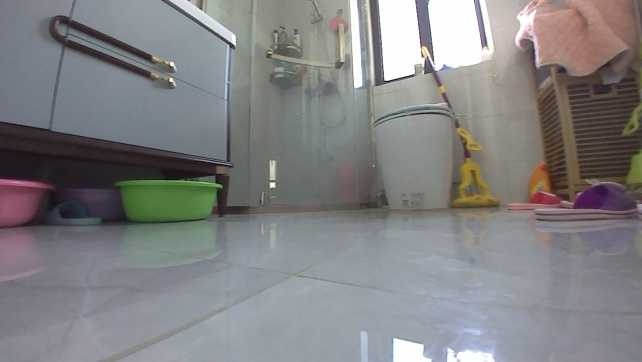slipper: (533, 180, 641, 223), (506, 186, 559, 210)
toilet: (370, 103, 460, 210)
washstand: (0, 0, 241, 213)
